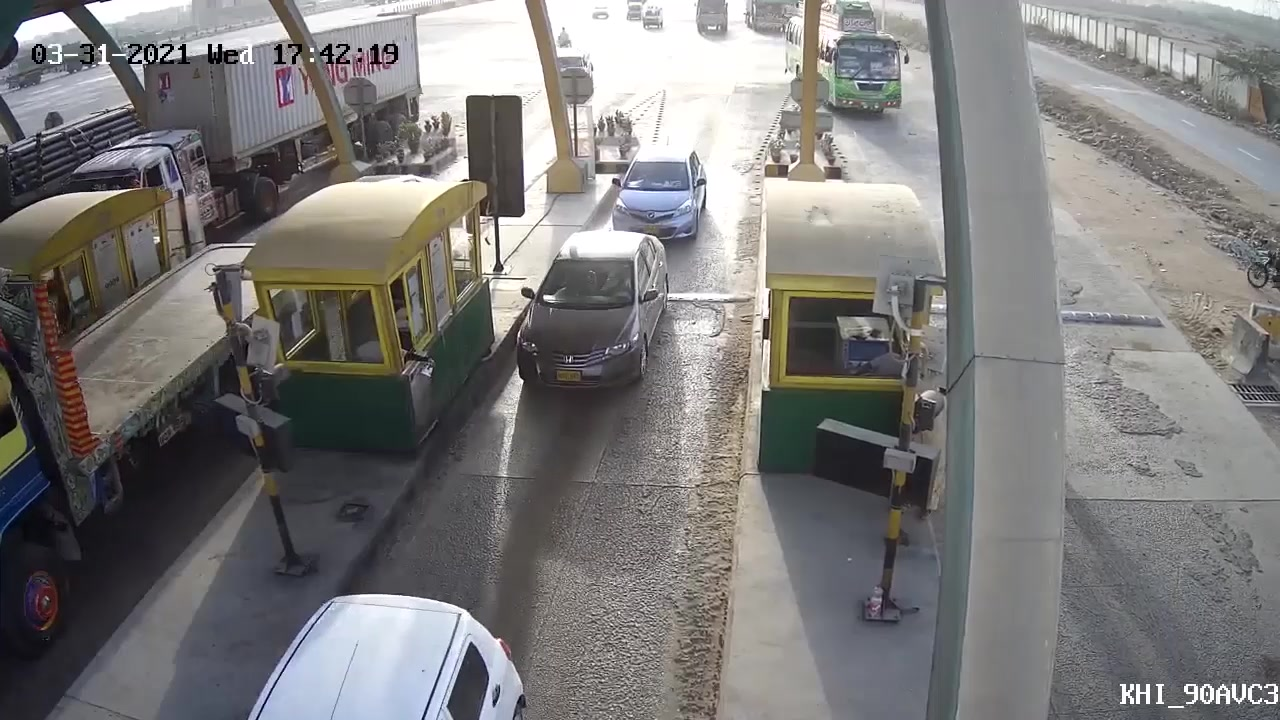F1: (494, 230, 676, 408), (603, 141, 713, 243)
